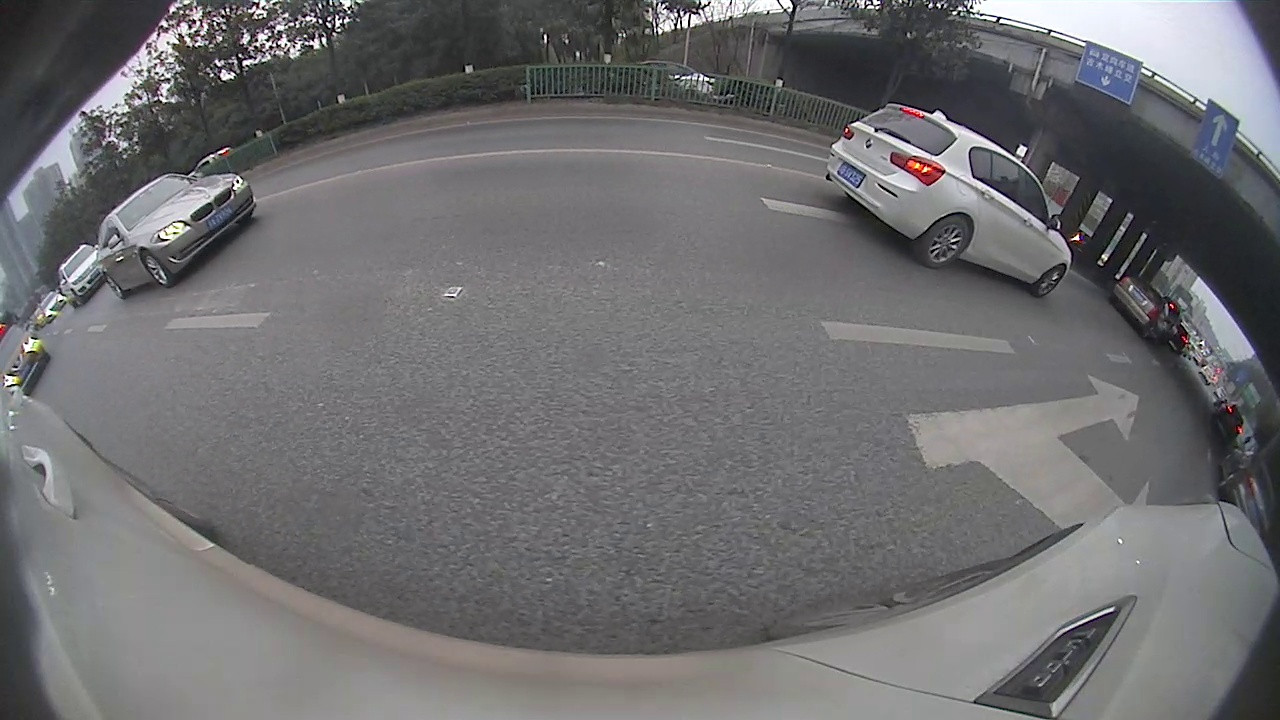car: (826, 101, 1073, 301), (93, 173, 260, 301), (1110, 273, 1167, 338), (52, 246, 109, 307), (4, 324, 50, 395)
front: (138, 249, 176, 289), (1033, 261, 1067, 301)
rear: (918, 214, 973, 268), (102, 272, 127, 301)
